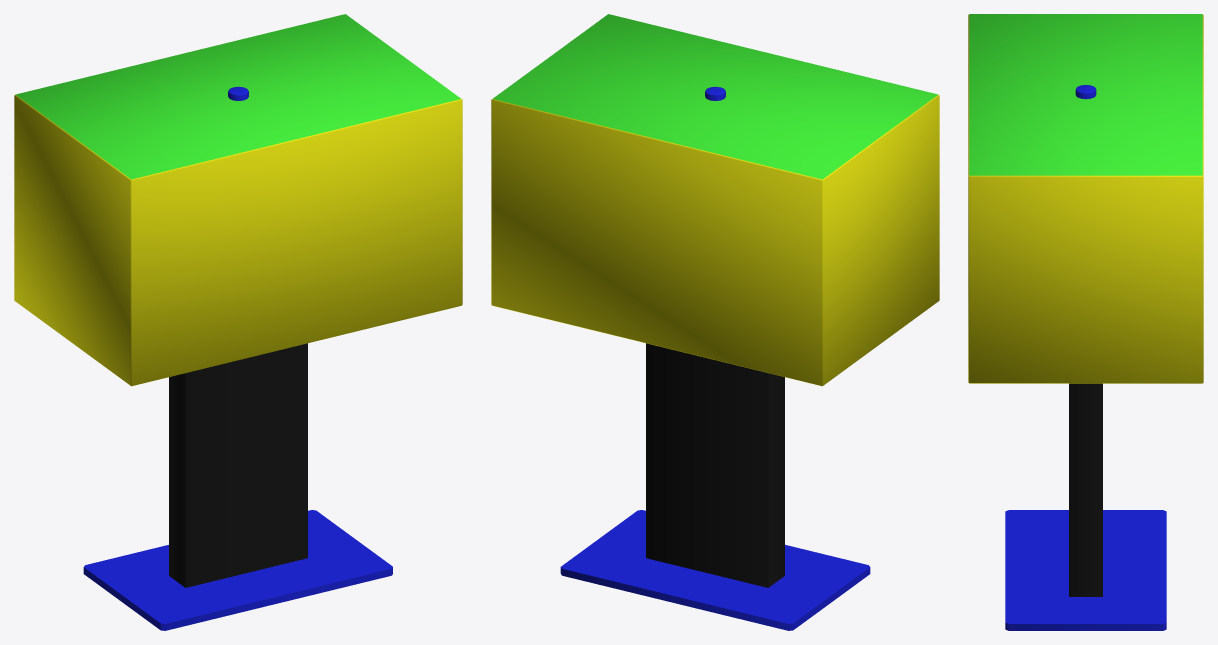
File: Light_Stand_low.fbx
3 renders of one model, left to right at view 1: azimuth 30°, elevation 25°; view 2: azimuth 150°, elevation 25°; view 3: azimuth 270°, elevation 25°, orthographic.
Parts seen in each view (by area): view 1: Light_Stand_low; view 2: Light_Stand_low; view 3: Light_Stand_low.
Part boxes in pixels (x1,y1,x2,y2): Light_Stand_low: (14,14,462,630); Light_Stand_low: (491,14,939,630); Light_Stand_low: (968,14,1203,630).
Size of the model in its own units: 34.41 by 47.84 by 21.03.
